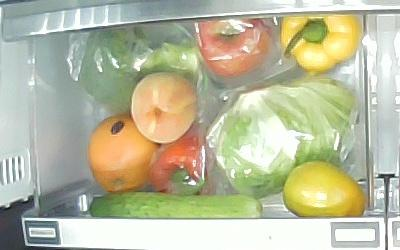apple_vinyl: (198, 18, 272, 78)
broccoli_vinyl: (76, 26, 199, 112)
cucumber: (89, 193, 264, 219)
grapefruit: (87, 114, 161, 193)
lettuce_vinyl: (215, 76, 355, 199)
paprika: (281, 14, 361, 74)
paprika_vinyl: (150, 135, 208, 195)
peach: (130, 72, 197, 143)
persimmon: (283, 160, 366, 217)
